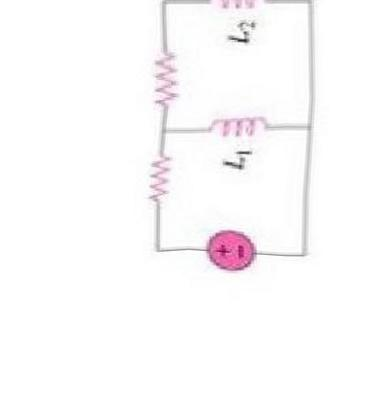Battery: (197, 220, 266, 281)
